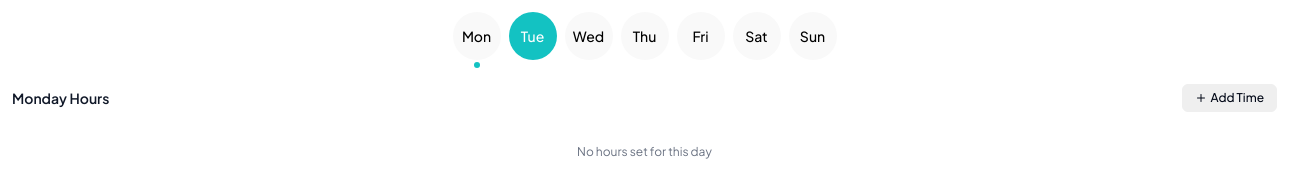
LocationHoursEditor › switches day view when clicking another day
expect the text "No hours set for this day" is shown: met, box top-left (577, 144), bottom-right (712, 159)
Note: Click Tuesday
Click the button "Tue" at (532, 40), box top-left (508, 12), bottom-right (556, 68)
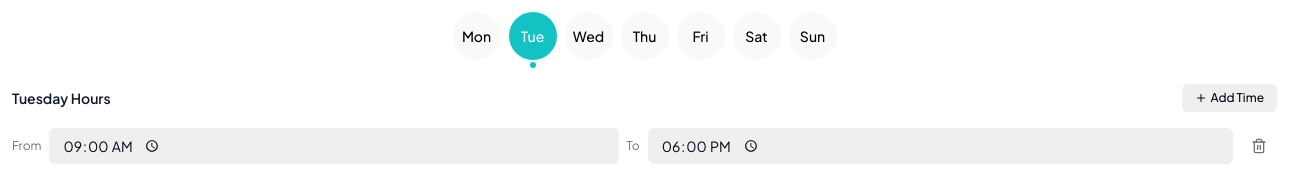
expect the heading "Tuesday Hours" is shown: met, box top-left (12, 88), bottom-right (111, 108)
expect the time field showing "09:00" is shown: met, box top-left (49, 128), bottom-right (618, 164)
expect the time field showing "18:00" is shown: met, box top-left (648, 128), bottom-right (1233, 164)
